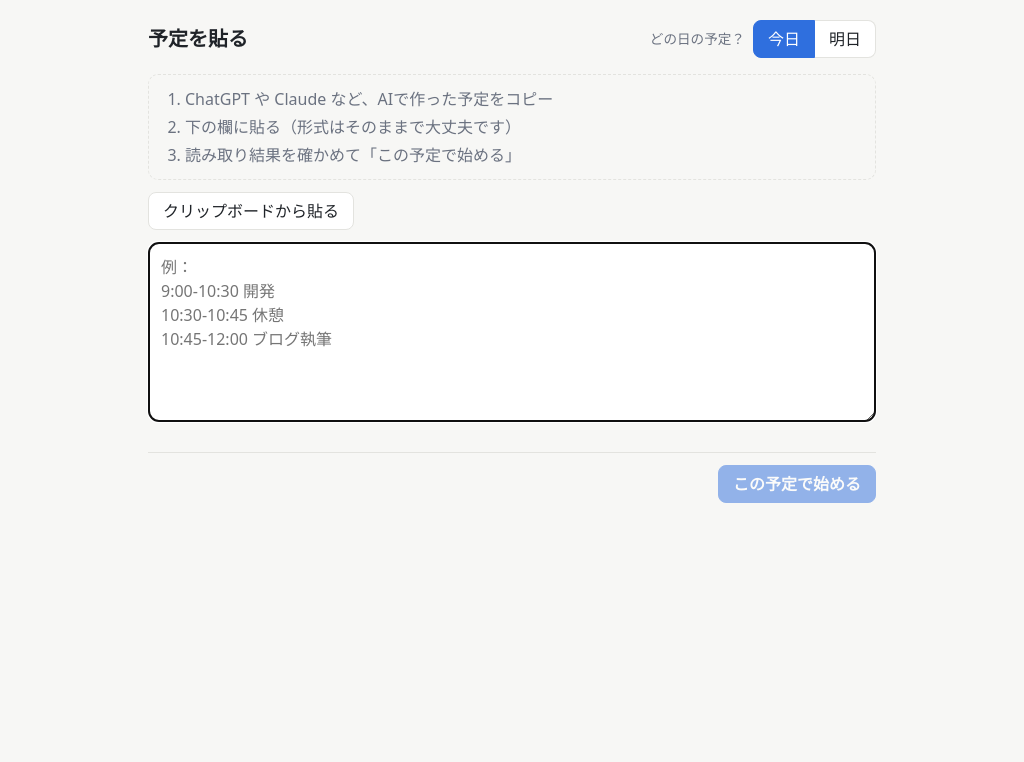
1日の流れ › まだ始めていないブロックをスキップし、取り消せる
Later steps or results of the test are not shown.
Type "時間 内容 9:00–10:30 開発①（1.5h） 10:30–10:45 休憩 10:45–12:15 開発②（1.5h） 12:15–13:15 ランニング（60分） 13:15–14:15 シャワー・昼食 14:15–15:45 Notion × Discord連携①（1.5h） 15:45–16:00 休憩 16:00–17:00 Notion × Discord連携②（1h） 17:0" into the text box named "予定のテキスト" at (512, 332), box [148,242,876,422]
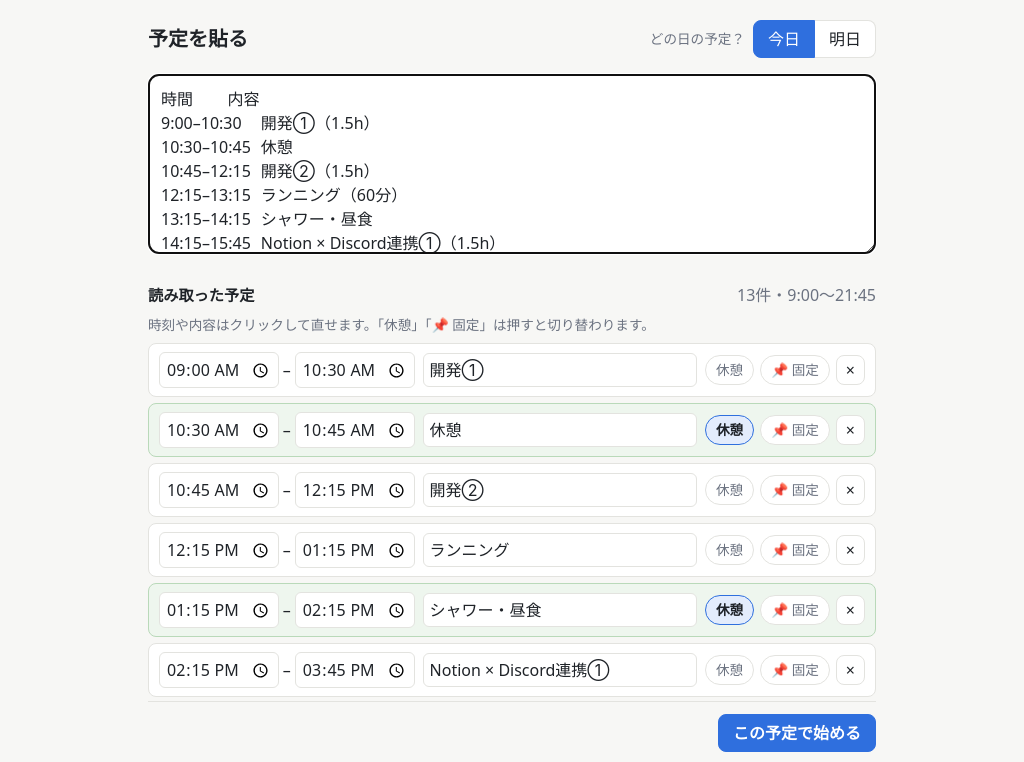
Click the button "この予定で始める" at (797, 733), box [718,714,876,752]
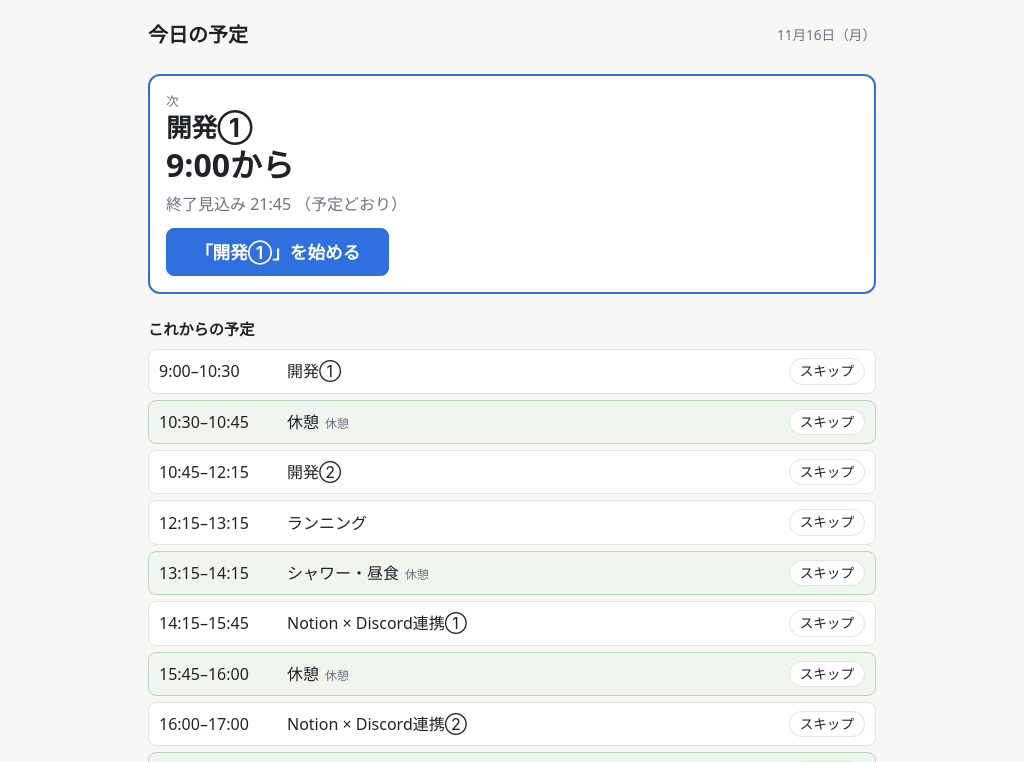
Click the button "スキップ" in the row of "ランニング" at (827, 523), box [789,509,865,536]
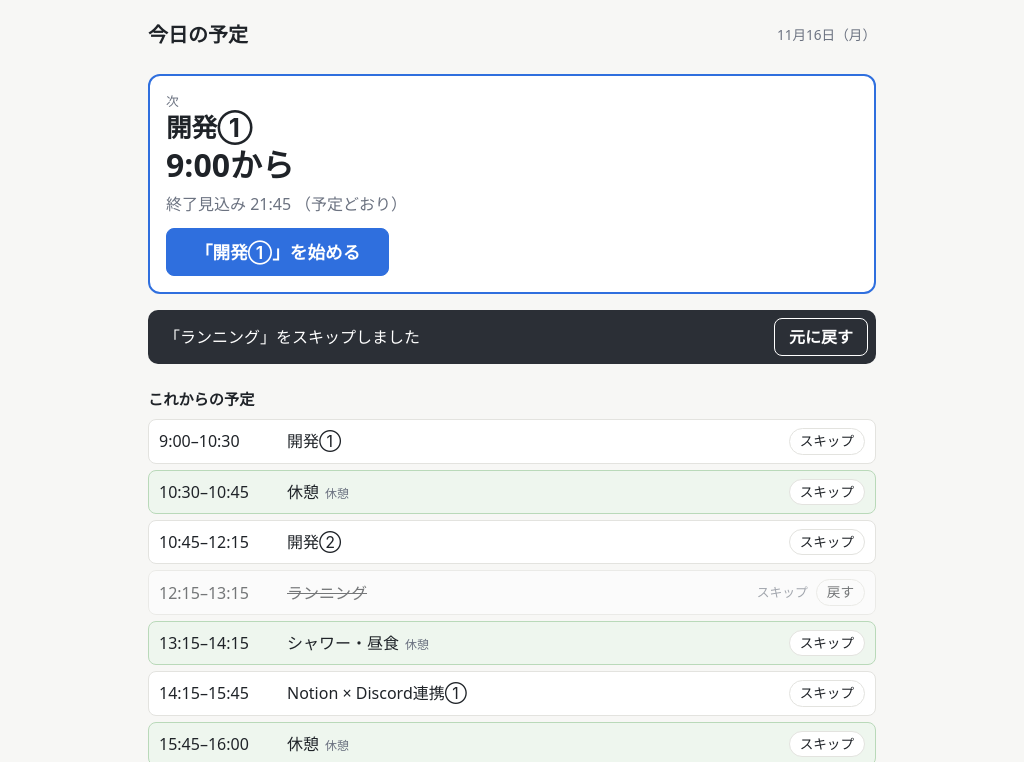
Expected: the text "スキップ" is shown, [757,583,808,602]
